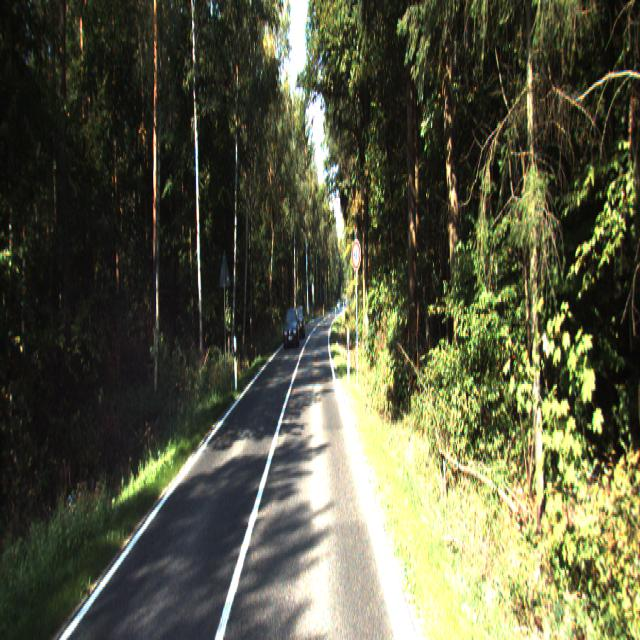Car: (284, 308, 300, 351)
